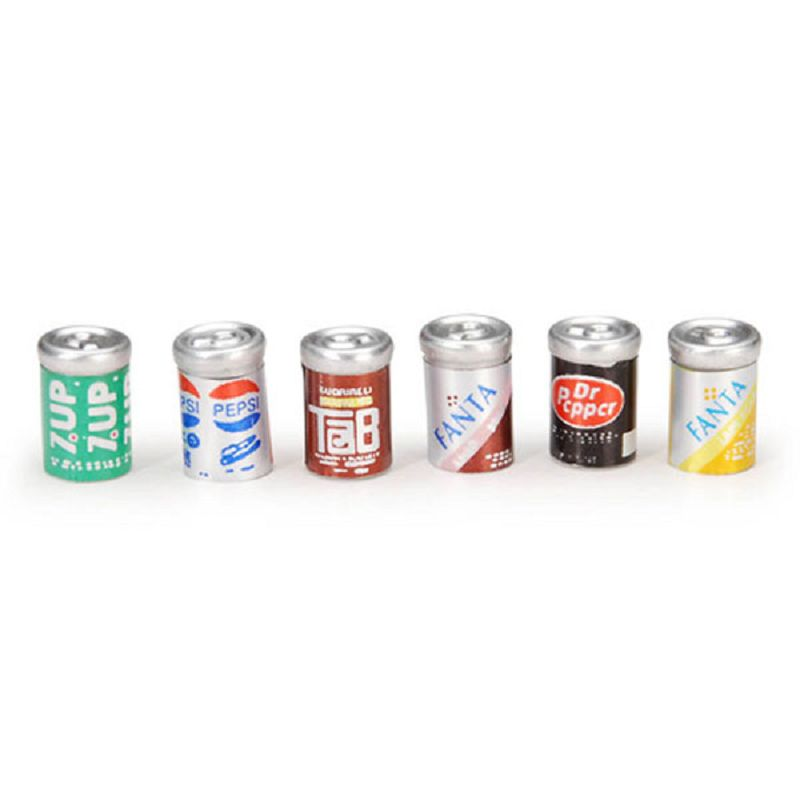Can: (164, 332, 276, 490), (31, 325, 144, 478), (417, 314, 522, 477), (296, 324, 400, 484), (666, 315, 764, 484), (548, 312, 638, 477)
